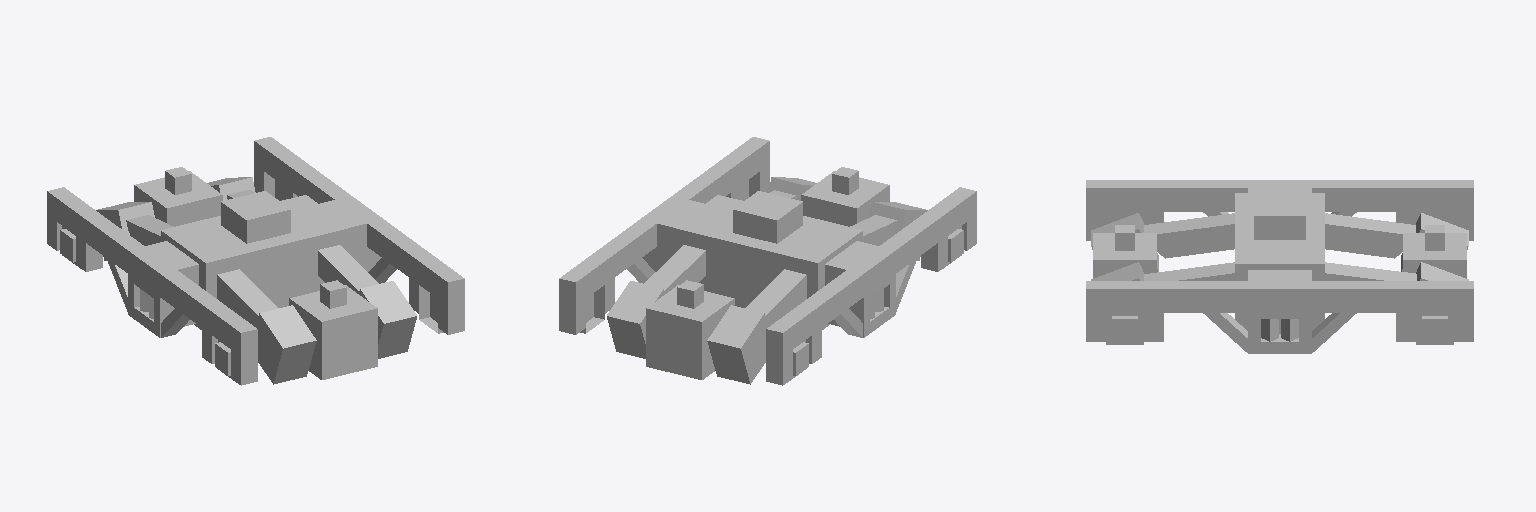
The model's file is large_mitsubishi.obj.
The picture shows the model from 3 angles: view 1: azimuth 30°, elevation 25°; view 2: azimuth 150°, elevation 25°; view 3: azimuth 270°, elevation 25°; orthographic projection.
Visible parts, largest first — view 1: cube_2, cube_16, cube_31, cube_13, cube_15, cube_4, cube_0, cube_12, cube_8, cube_7, cube_11, cube_3 (+9 smaller); view 2: cube_2, cube_16, cube_31, cube_4, cube_5, cube_13, cube_0, cube_6, cube_9, cube_10, cube_11, cube_3 (+9 smaller); view 3: cube_31, cube_16, cube_2, cube_8, cube_9, cube_0, cube_13, cube_4, cube_10, cube_7, cube_40, cube_41 (+14 smaller).
Boxes of the visible parts, <box> form: cube_2: <box>161,195,350,329</box>; cube_16: <box>47,187,257,355</box>; cube_31: <box>254,137,464,305</box>; cube_13: <box>289,285,377,379</box>; cube_15: <box>256,305,316,384</box>; cube_4: <box>134,171,222,226</box>; cube_0: <box>221,191,290,243</box>; cube_12: <box>359,281,416,358</box>; cube_8: <box>217,269,278,326</box>; cube_7: <box>318,245,378,293</box>; cube_11: <box>320,200,366,270</box>; cube_3: <box>145,241,198,326</box>; cube_2: <box>673,195,862,329</box>; cube_16: <box>766,187,976,355</box>; cube_31: <box>559,137,769,305</box>; cube_4: <box>646,285,734,379</box>; cube_5: <box>707,305,767,384</box>; cube_13: <box>801,171,889,226</box>; cube_0: <box>733,191,802,243</box>; cube_6: <box>607,281,664,358</box>; cube_9: <box>745,269,806,326</box>; cube_10: <box>644,245,705,293</box>; cube_11: <box>657,200,703,270</box>; cube_3: <box>825,241,878,326</box>; cube_31: <box>1086,281,1473,312</box>; cube_16: <box>1086,180,1473,211</box>; cube_2: <box>1235,193,1324,330</box>; cube_8: <box>1144,213,1234,258</box>; cube_9: <box>1325,213,1415,258</box>; cube_0: <box>1254,195,1305,239</box>; cube_13: <box>1093,233,1156,278</box>; cube_4: <box>1403,233,1466,278</box>; cube_10: <box>1325,262,1416,280</box>; cube_7: <box>1144,262,1234,280</box>; cube_40: <box>1248,334,1311,353</box>; cube_41: <box>1312,313,1356,352</box>.
Size of the model in its own units: 2.5 by 1.08 by 3.75.